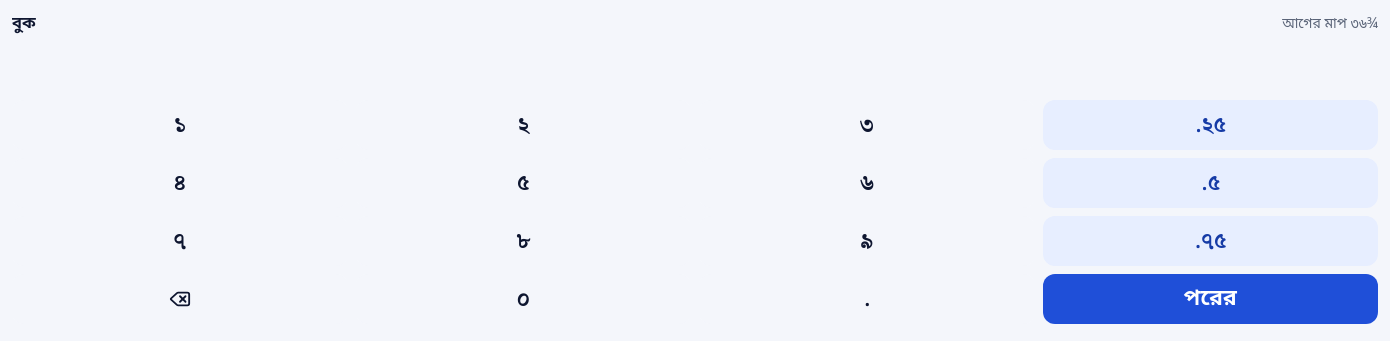
Test: MeasureKeypad › builds a measurement and replaces a fraction
Click the button "৩" at x=867, y=125, box 699,100 -> 1034,150
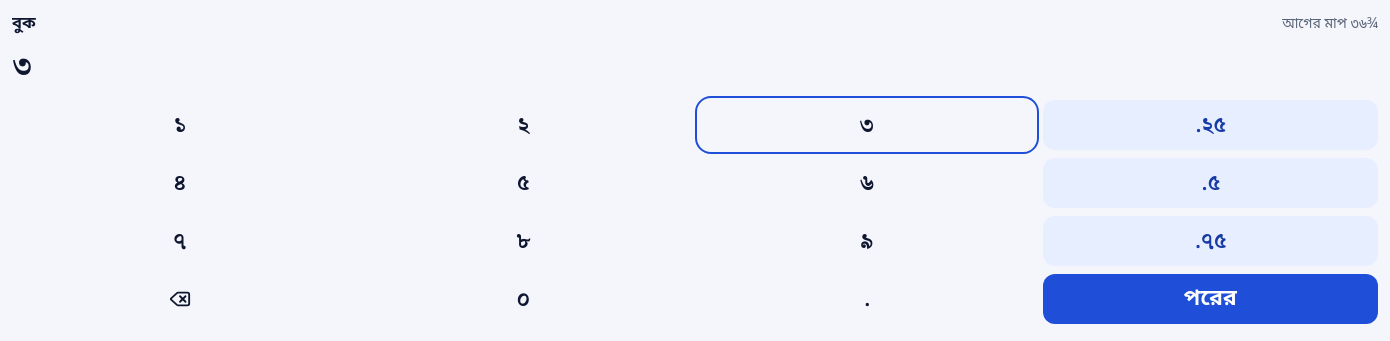
Click the button "৮" at x=523, y=241, box 356,216 -> 691,266
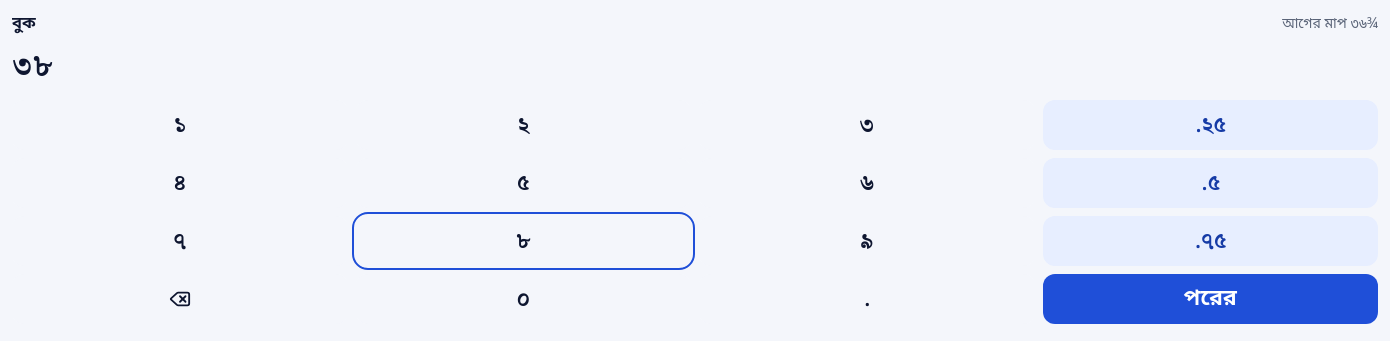
Click the button named "অর্ধেক" at x=1210, y=183, box 1042,158 -> 1378,208
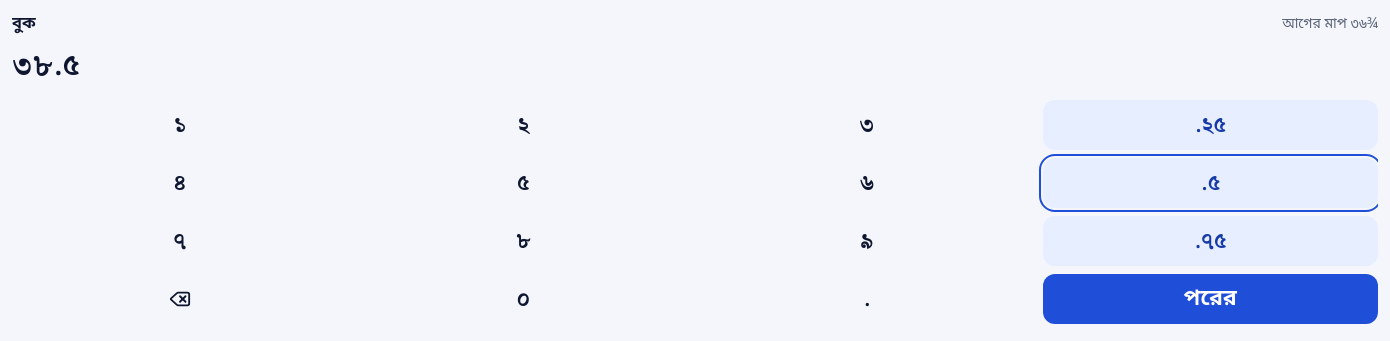
expect the text with test id "keypad-value" reads "৩৮.৫": met, box 12,42 -> 80,90
Click the button named "তিন চতুর্থাংশ" at x=1210, y=241, box 1042,216 -> 1378,266
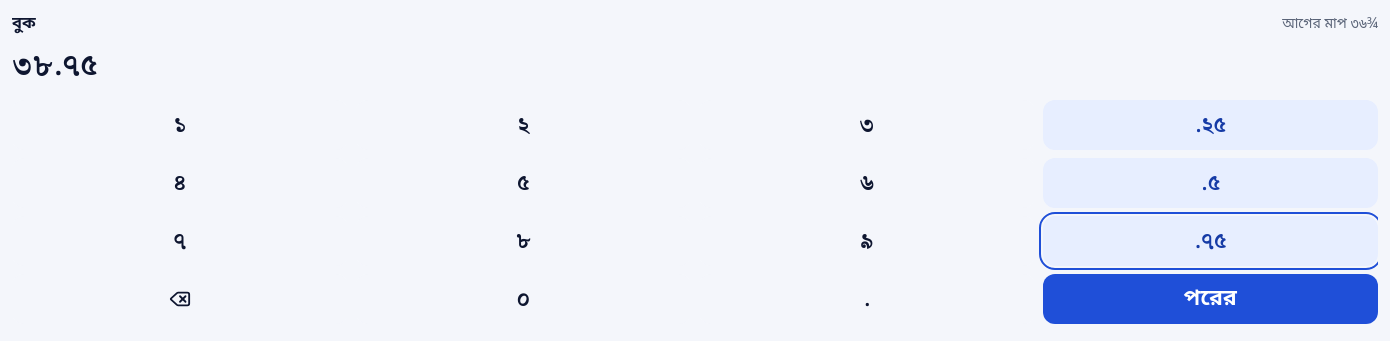
expect the text with test id "keypad-value" reads "৩৮.৭৫": met, box 12,42 -> 98,90
